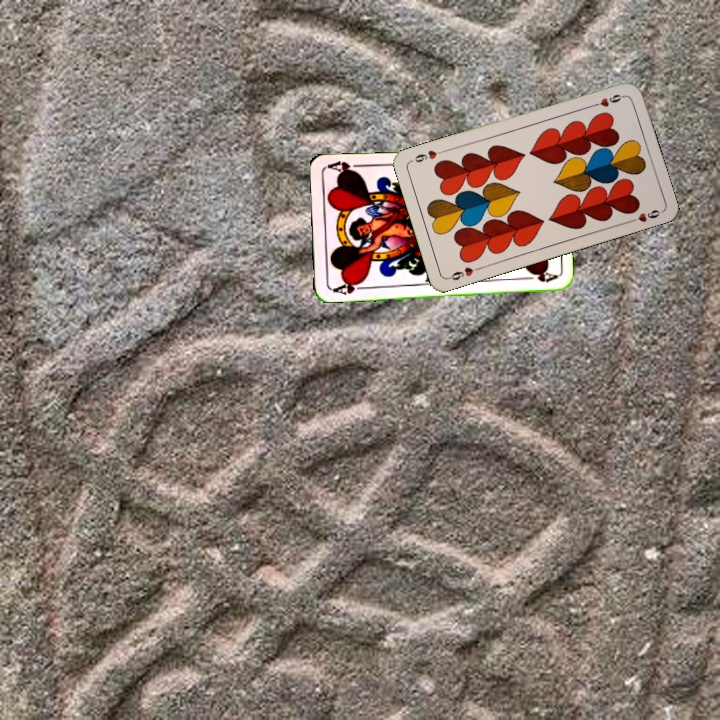H9: (587, 90, 627, 110), (444, 263, 483, 283)
HA: (328, 277, 369, 297)
